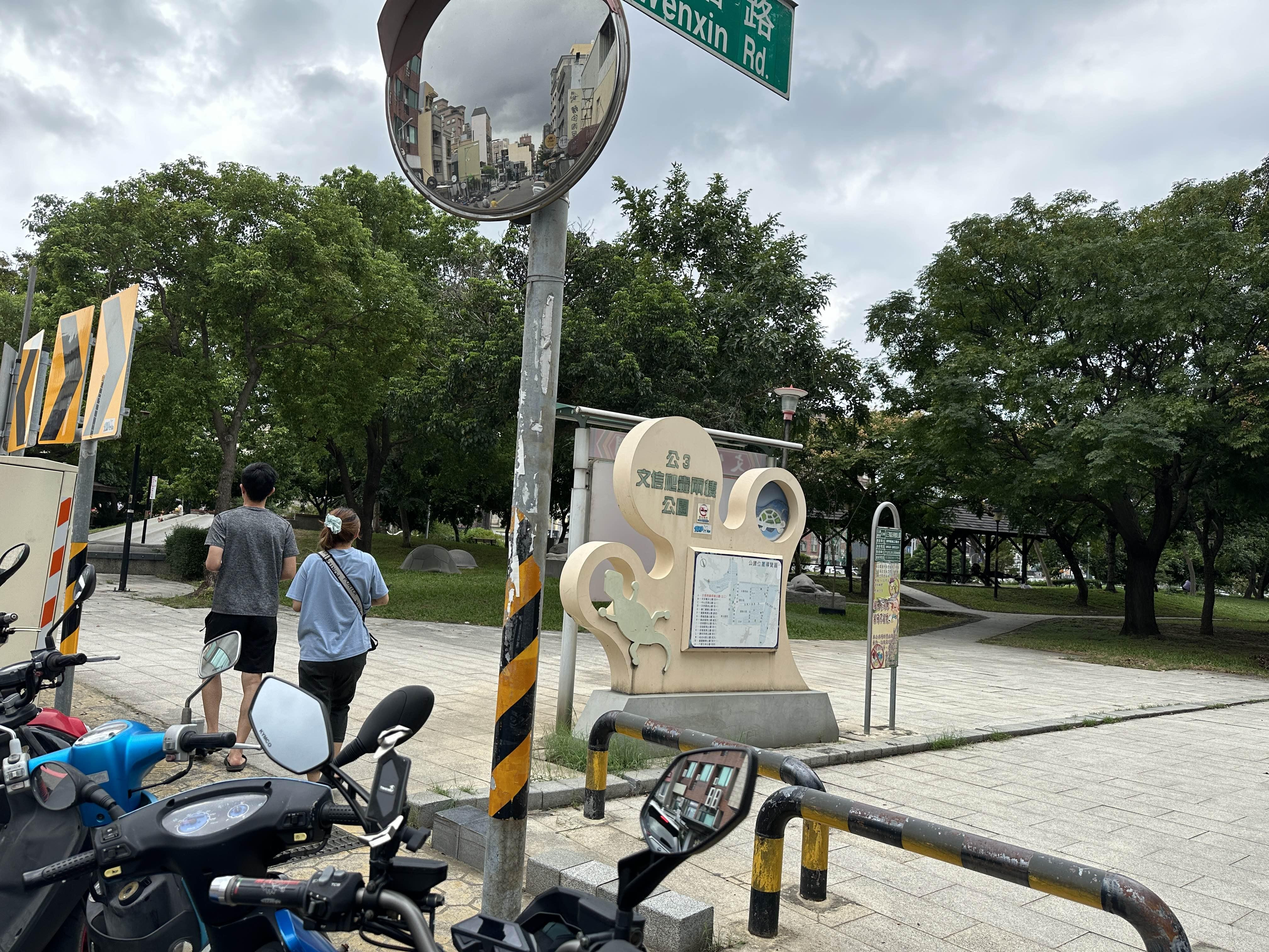NoHelmet: (327, 506, 361, 549), (242, 463, 278, 502)
NoVest: (305, 552, 373, 655), (225, 507, 283, 612)
